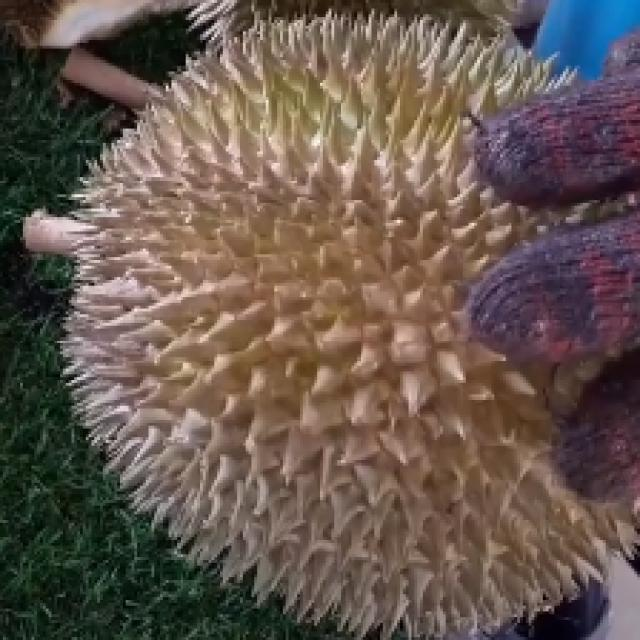d101: (75, 65, 596, 622)
